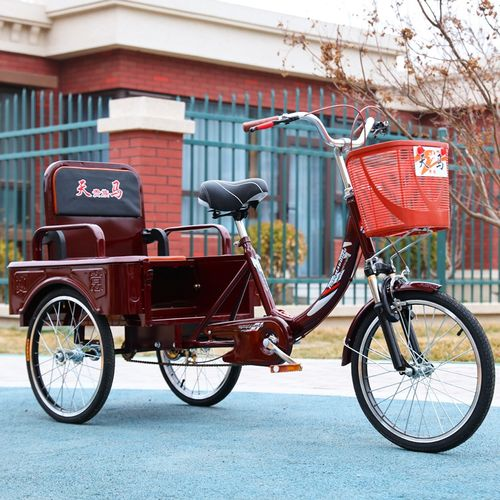empty: (7, 132, 494, 454)
